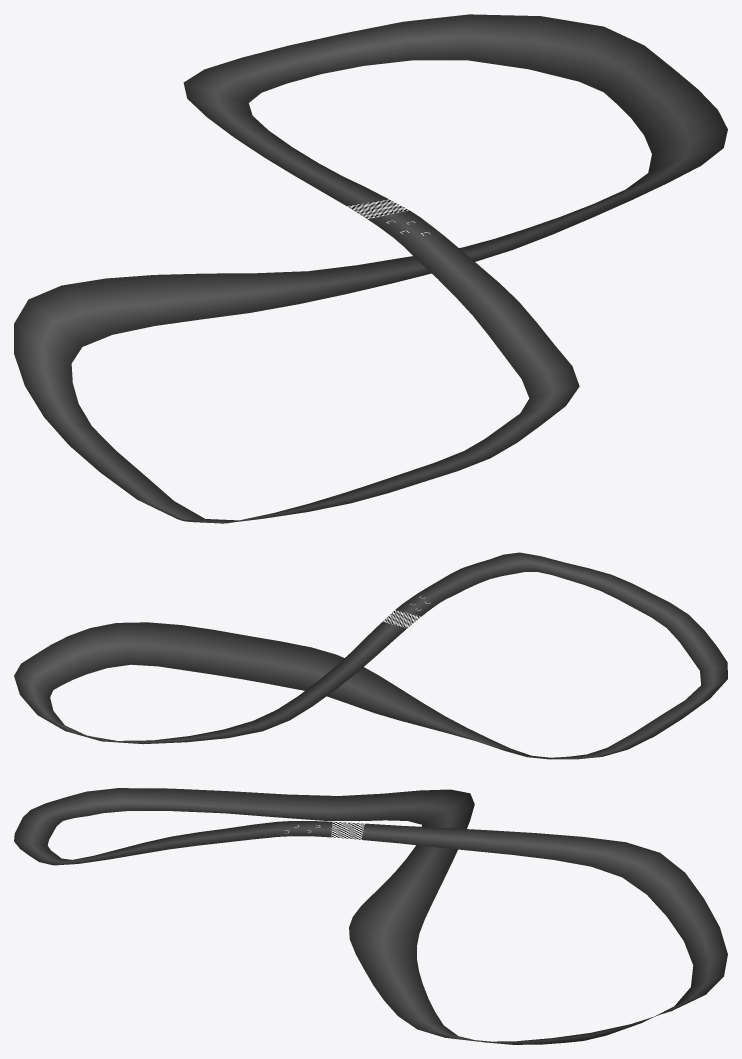
Rendered from pistaNascar.fbx.
The picture shows the model from 3 angles, top to bottom: view 1: azimuth 30°, elevation 25°; view 2: azimuth 150°, elevation 25°; view 3: azimuth 270°, elevation 25°; orthographic projection. The views are drawn at different scales.
Visible parts, largest first — view 1: Plane001; view 2: Plane001; view 3: Plane001.
Part boxes in pixels (box(x1,y1,x2,y2)): Plane001: box(14, 14, 727, 523); Plane001: box(14, 552, 727, 759); Plane001: box(14, 788, 727, 1044).
Size of the model in its own units: 12083 by 2006 by 12373.
1 material, 1 textured.
